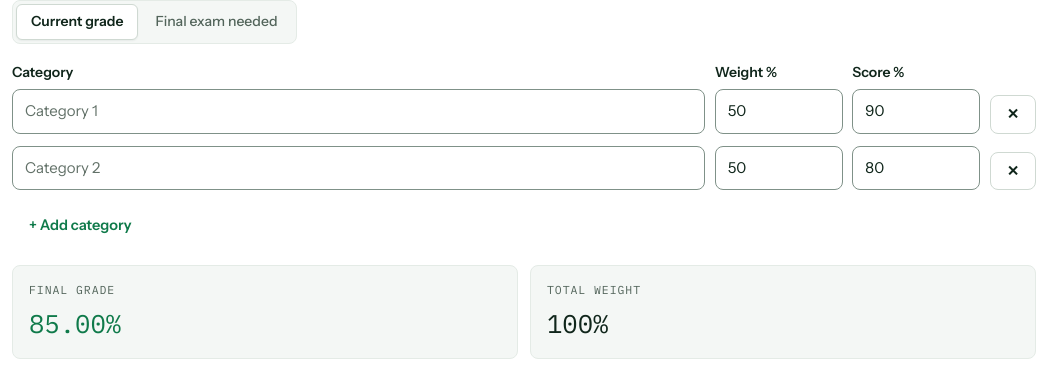
Test: GradeCalculator › errors on an out-of-range final weight
The image size is (1048, 376).
Click the tab "Final exam needed": click(216, 22) [140,4,292,40]
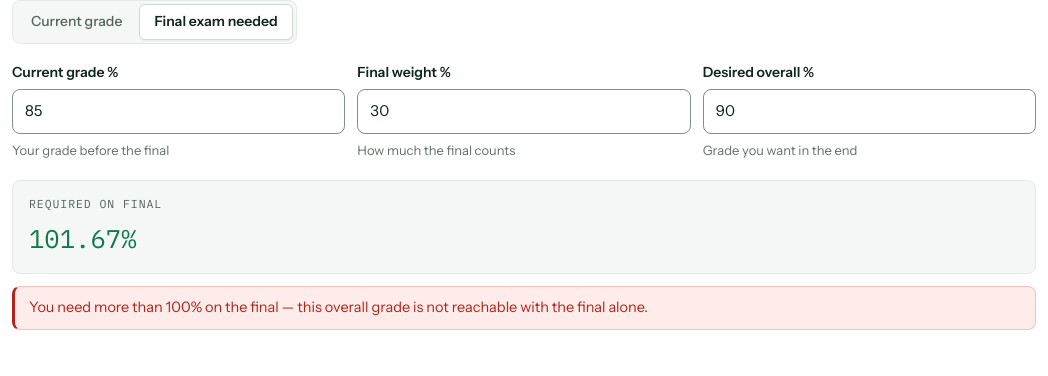
In the number field with placeholder "30": (524, 112) [357,89,691,134], type "0"
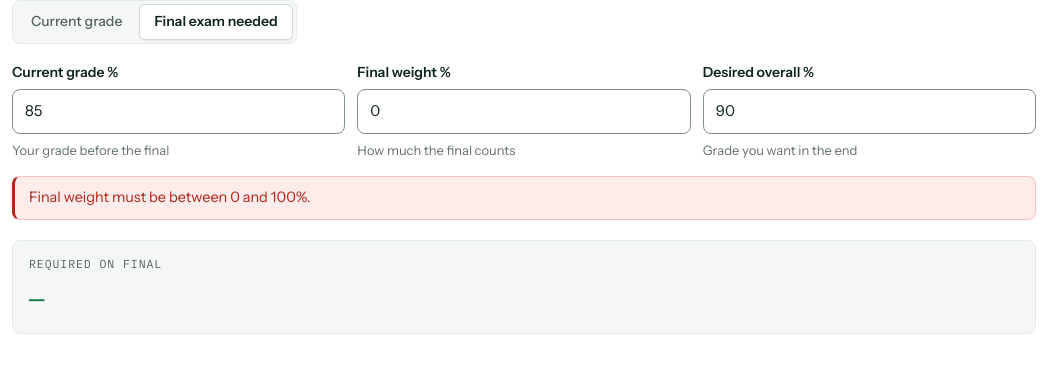
Now the text "Final weight must be between 0 and 100%." is shown, box [12,176,1036,220]
